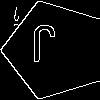J: (30, 25, 56, 71)
